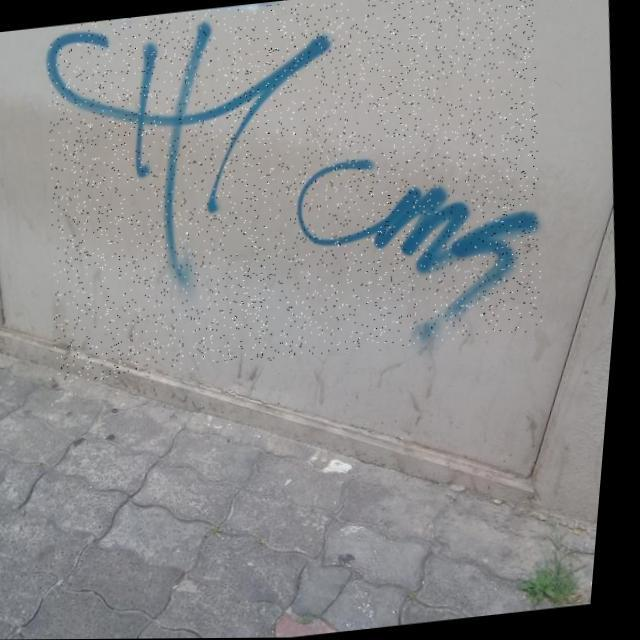-: (24, 0, 569, 385)
